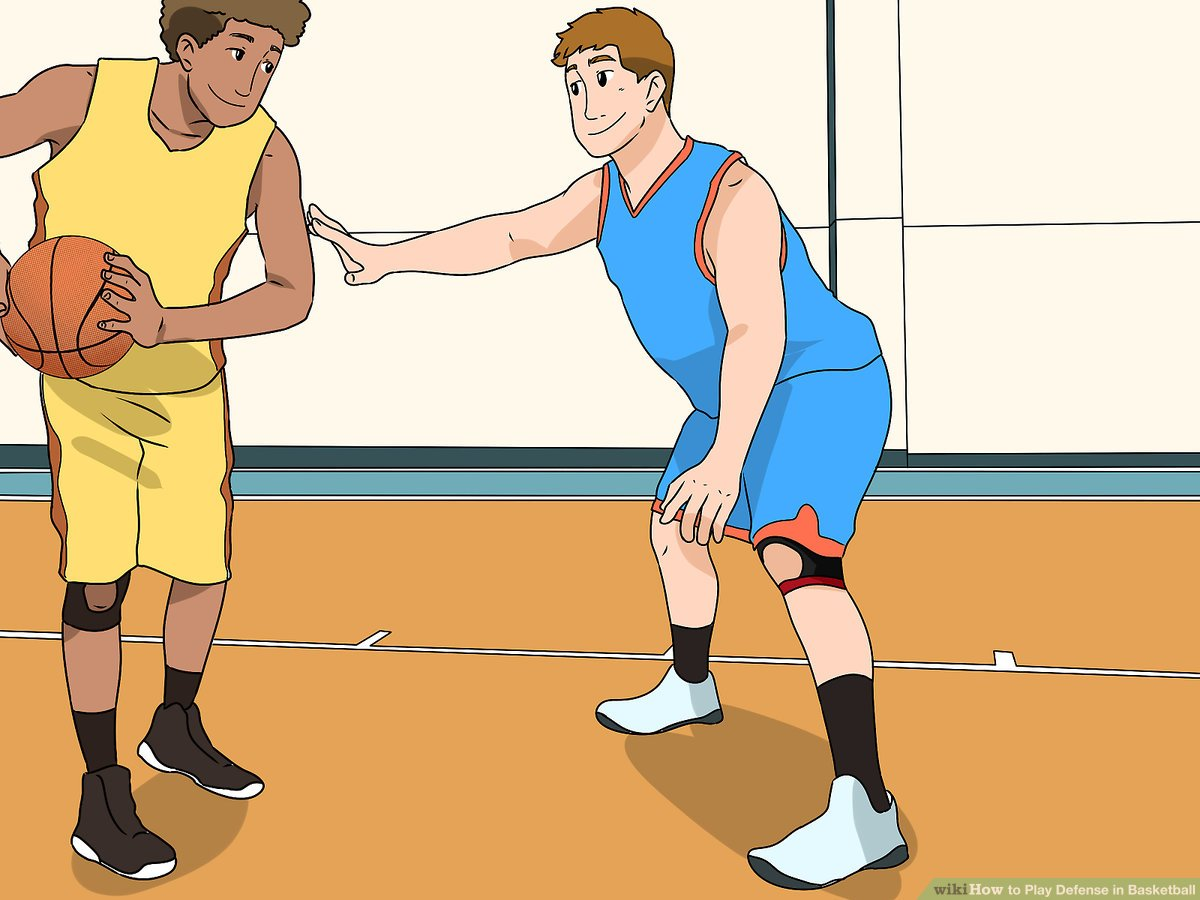b_ball: (1, 227, 151, 402)
player: (315, 1, 921, 900), (1, 6, 287, 884)
